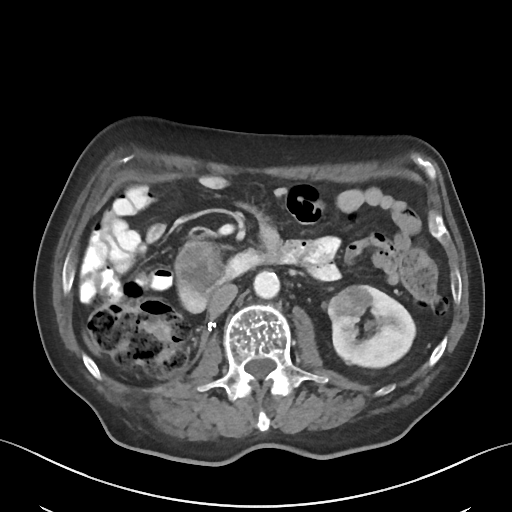Lesion: (328, 283, 372, 318)
